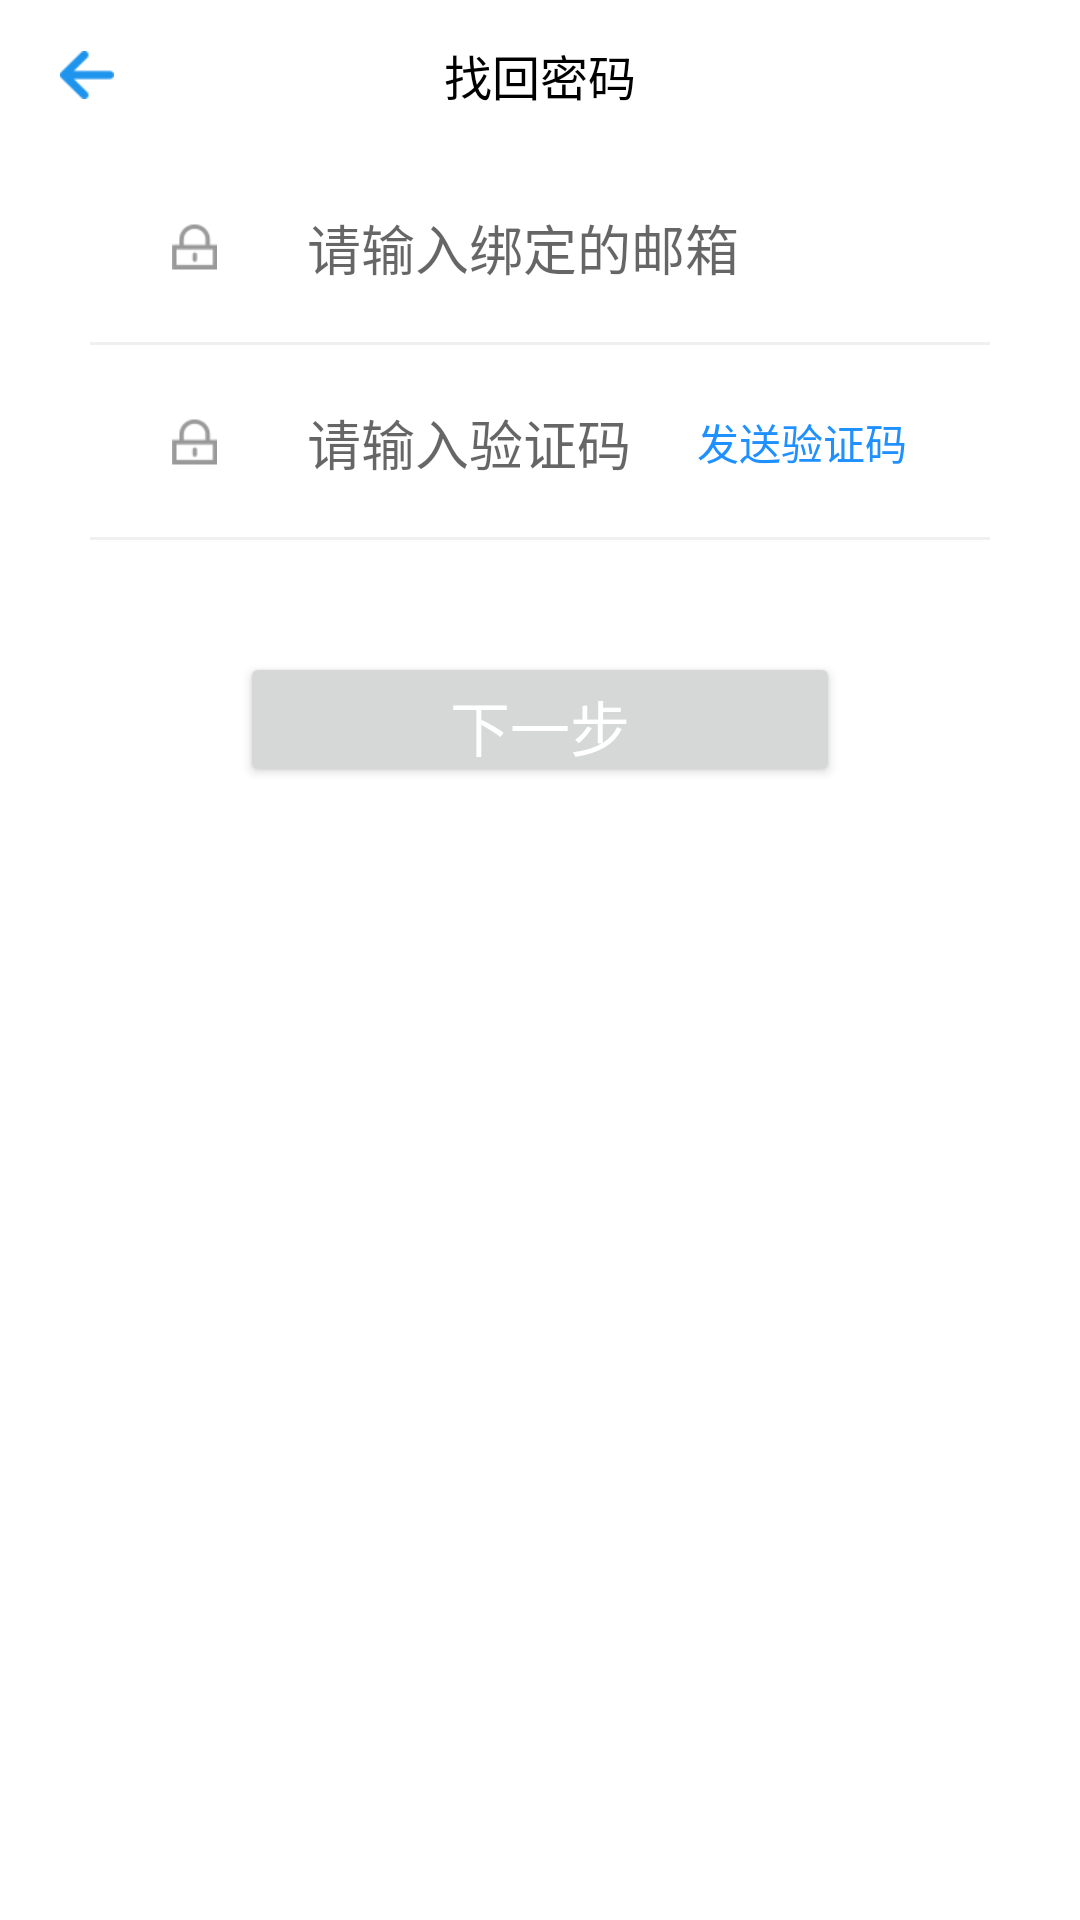

Screen size 1080×1920. Icon name, then its box in pixels as (x1, y1, x2, y2):
back: (60, 51, 114, 99)
